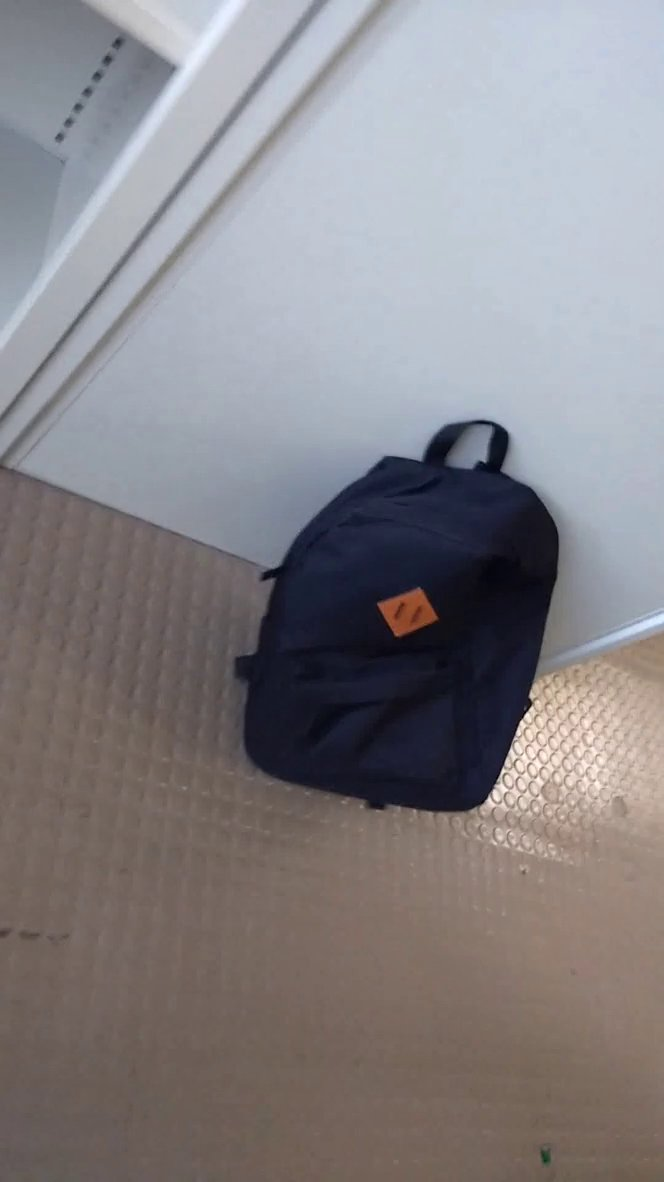bag: (223, 366, 577, 844)
